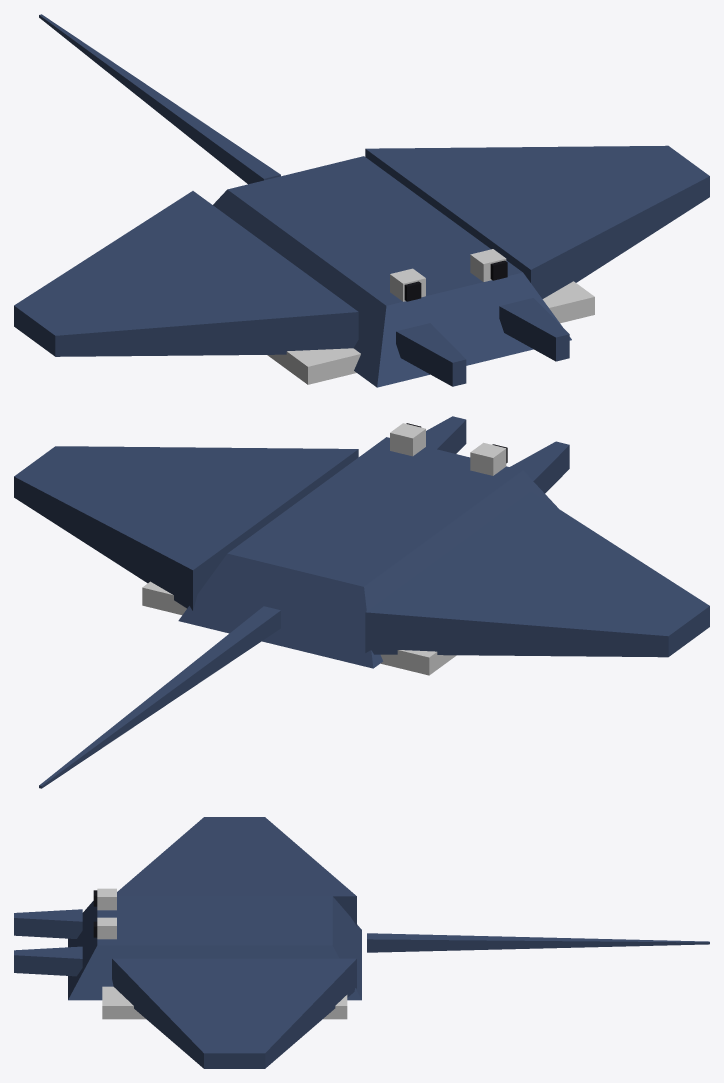
The model's file is ray.glb.
The picture shows the model from 3 angles, top to bottom: view 1: azimuth 30°, elevation 25°; view 2: azimuth 150°, elevation 25°; view 3: azimuth 270°, elevation 25°; orthographic projection. The views are drawn at different scales.
Visible parts, largest first — view 1: ray; view 2: ray; view 3: ray.
Part boxes in pixels (x1,y1,x2,y2): ray: (14, 14, 709, 387); ray: (14, 416, 709, 788); ray: (14, 817, 709, 1068).
Bounding box in the file's own units: 1.14 × 0.135 × 1.42.
